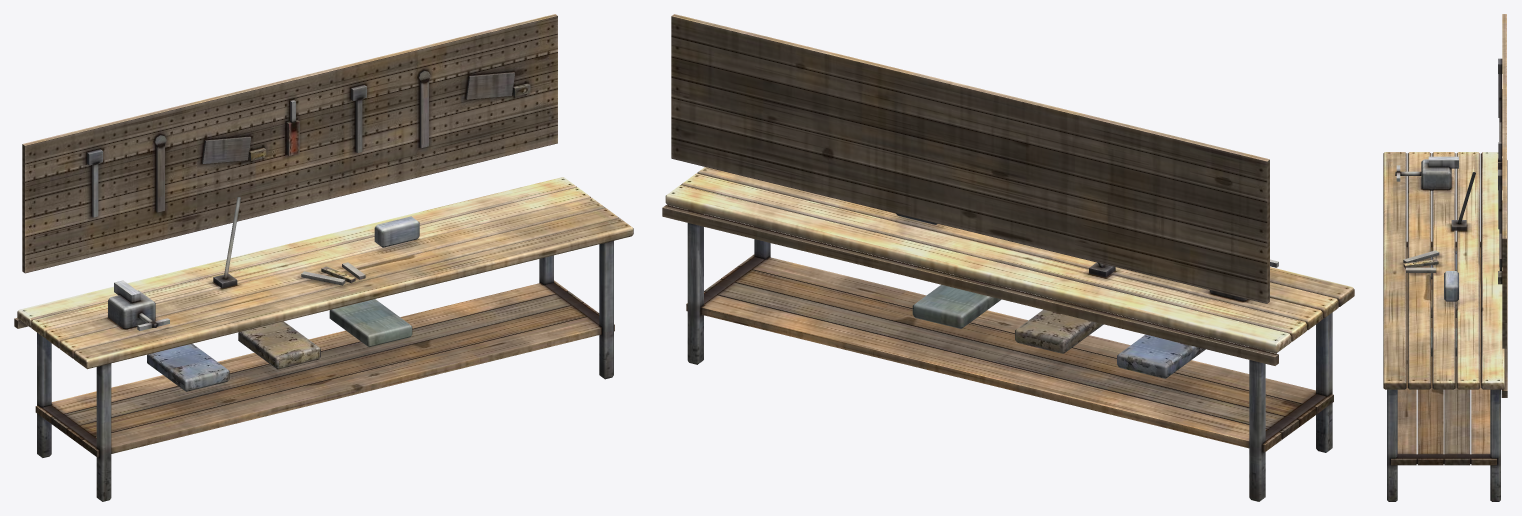
File: bancada.glb
3 views of the same model, side by side, from view 1: azimuth 30°, elevation 25°; view 2: azimuth 150°, elevation 25°; view 3: azimuth 270°, elevation 25° (orthographic). The views are drawn at different scales.
Parts seen in each view (by area): view 1: bancada; view 2: bancada; view 3: bancada.
Part boxes in pixels (x1,y1,x2,y2): bancada: [14, 14, 633, 501]; bancada: [662, 14, 1354, 501]; bancada: [1383, 14, 1507, 501].
Size of the model in its own units: 3.6 by 1.95 by 0.82.
1 material, 1 textured.
